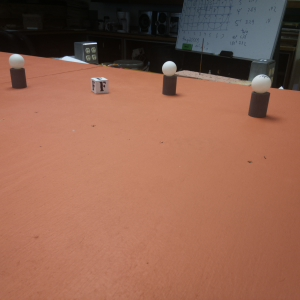obstacle: (248, 72, 271, 120), (160, 60, 180, 95), (8, 54, 26, 87)
